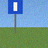sign: (8, 0, 22, 34)
